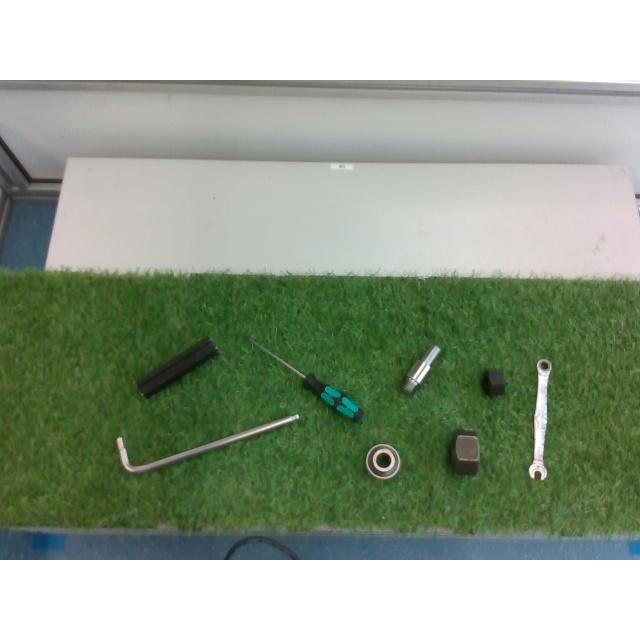AllenKey: (116, 414, 300, 474)
Axis2: (404, 346, 441, 394)
Bearing2: (364, 444, 400, 480)
F20_20_B: (136, 338, 218, 398)
M20: (481, 370, 505, 396)
M30: (449, 429, 478, 475)
Screwdriver: (245, 334, 362, 422)
Wrench: (529, 359, 551, 479)
